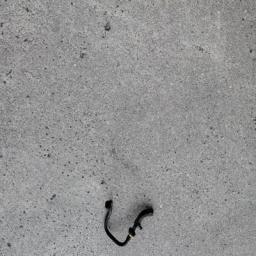FOD: (101, 198, 159, 249)
